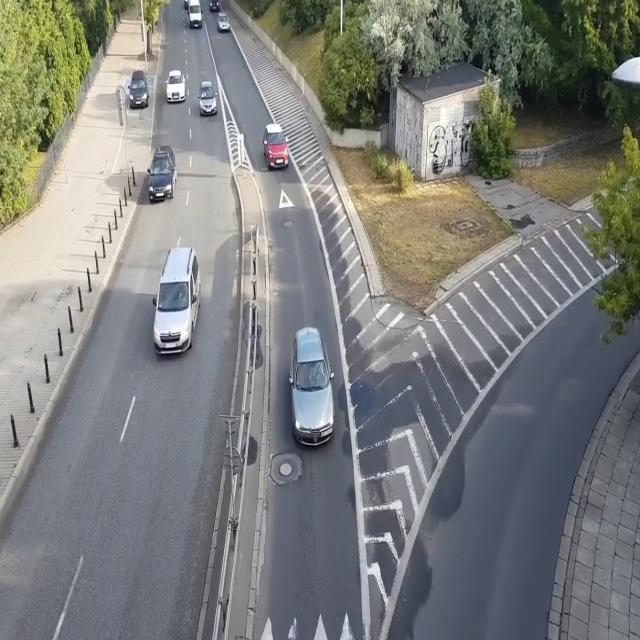car: (288, 326, 336, 447), (152, 246, 200, 357), (147, 144, 177, 202), (262, 123, 290, 170), (128, 69, 150, 109), (197, 80, 218, 118), (165, 70, 186, 103), (217, 12, 230, 33), (208, 0, 220, 11)
truck: (181, 0, 195, 9)
van: (187, 0, 204, 28)
